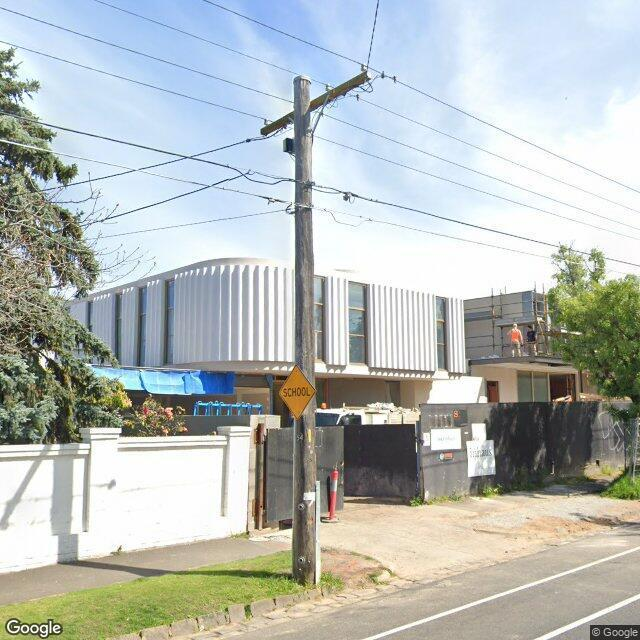crossarm: (260, 72, 371, 136)
timber-pole: (292, 75, 321, 586)
